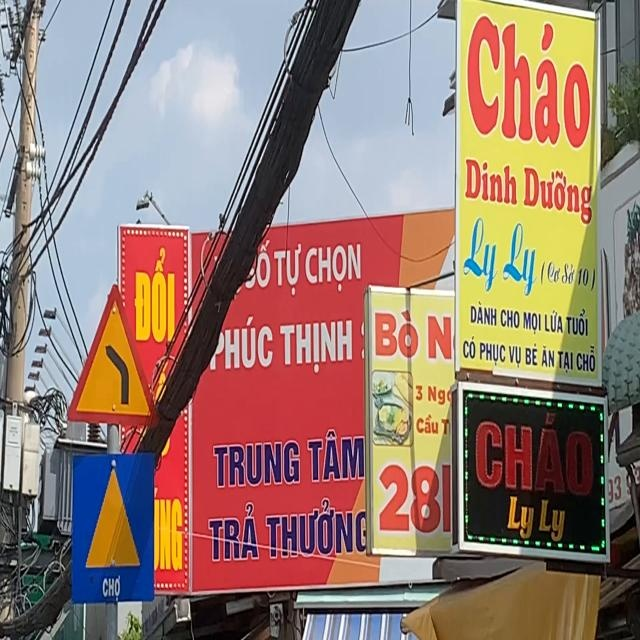bien_nguy_hiem: (62, 269, 158, 430)
